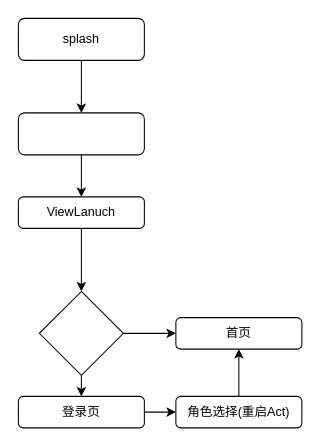
Image size: 320x446. Some labels were removed from this diagram. The centre of each missing label's shape, as x and y in pixels:
"BaseReactActivity" goes at point (80, 133).
"登录否" goes at point (80, 332).
